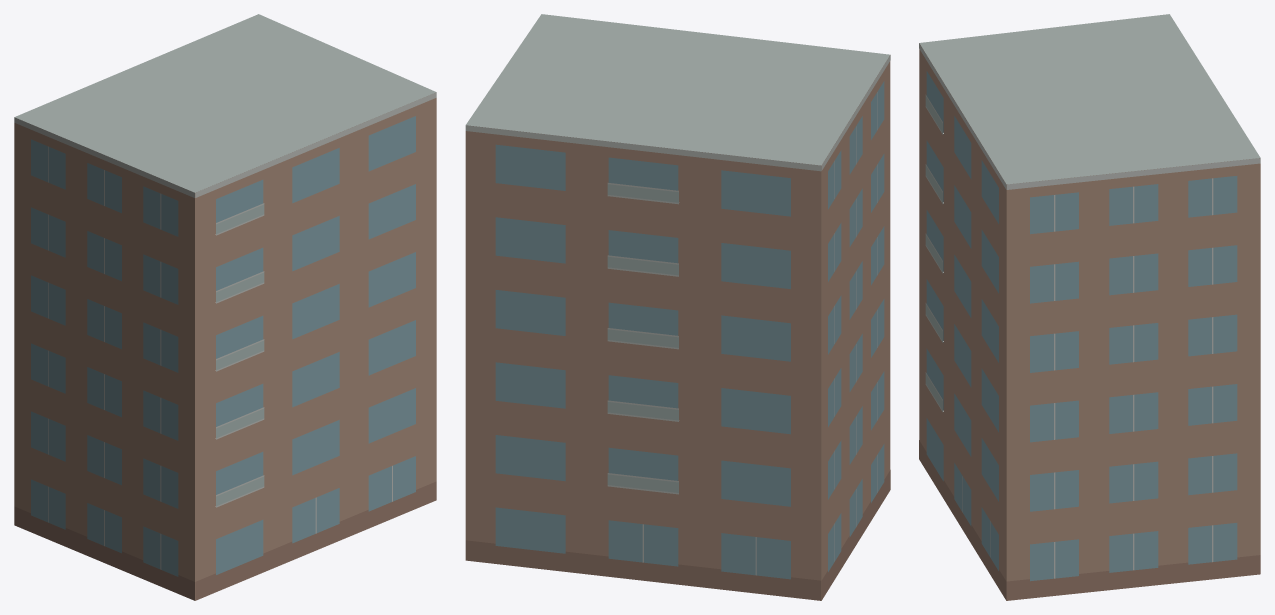
File: survey-upis-32979998.glb
The picture shows the model from 3 angles, left to right: view 1: azimuth 30°, elevation 25°; view 2: azimuth 150°, elevation 25°; view 3: azimuth 270°, elevation 25°; orthographic projection. The views are drawn at different scales.
Visible parts, largest first — view 1: survey-upis-32979998.tmp; view 2: survey-upis-32979998.tmp; view 3: survey-upis-32979998.tmp.
Boxes of the visible parts, x1,y1,x2,y2 form: survey-upis-32979998.tmp: (14, 14, 436, 600); survey-upis-32979998.tmp: (465, 14, 890, 600); survey-upis-32979998.tmp: (919, 14, 1260, 600).
Size of the model in its own units: 16.08 by 18.3 by 13.61.
